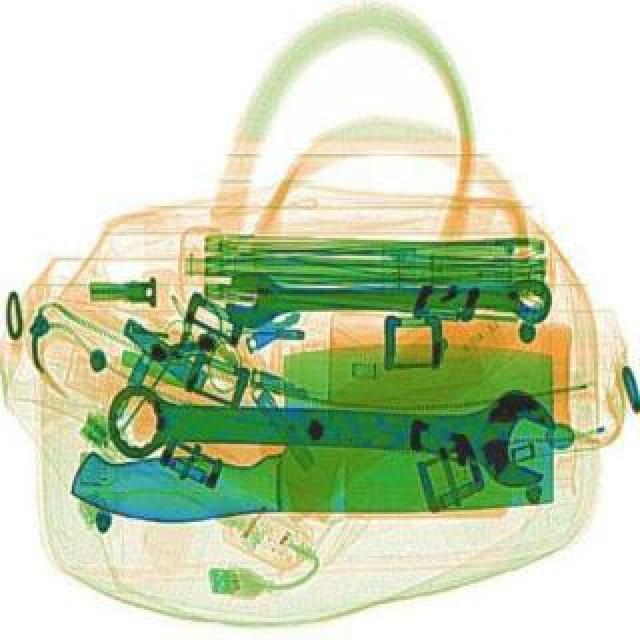knife: (64, 340, 558, 528)
scissors: (102, 380, 554, 492), (222, 278, 550, 336)
